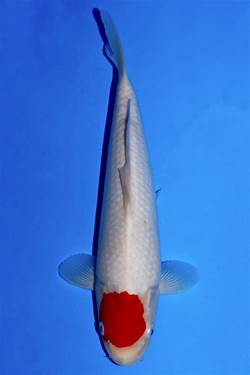sun: (57, 8, 199, 367)
